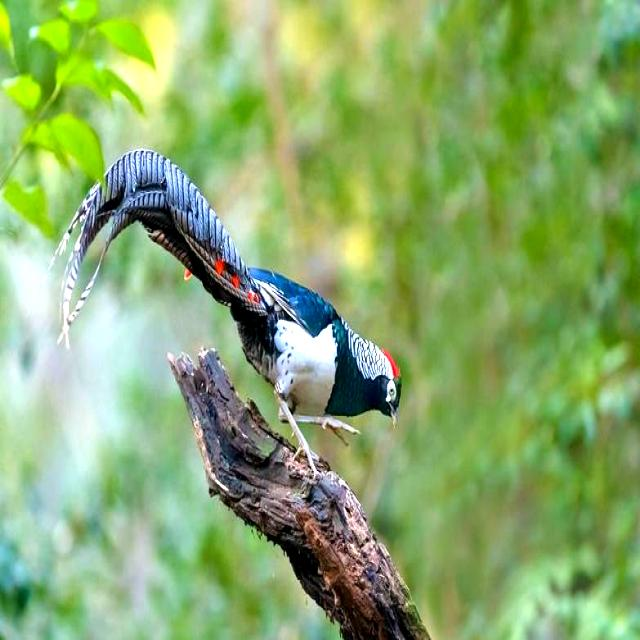Chrysolophus amherstiae: (63, 148, 265, 338)
